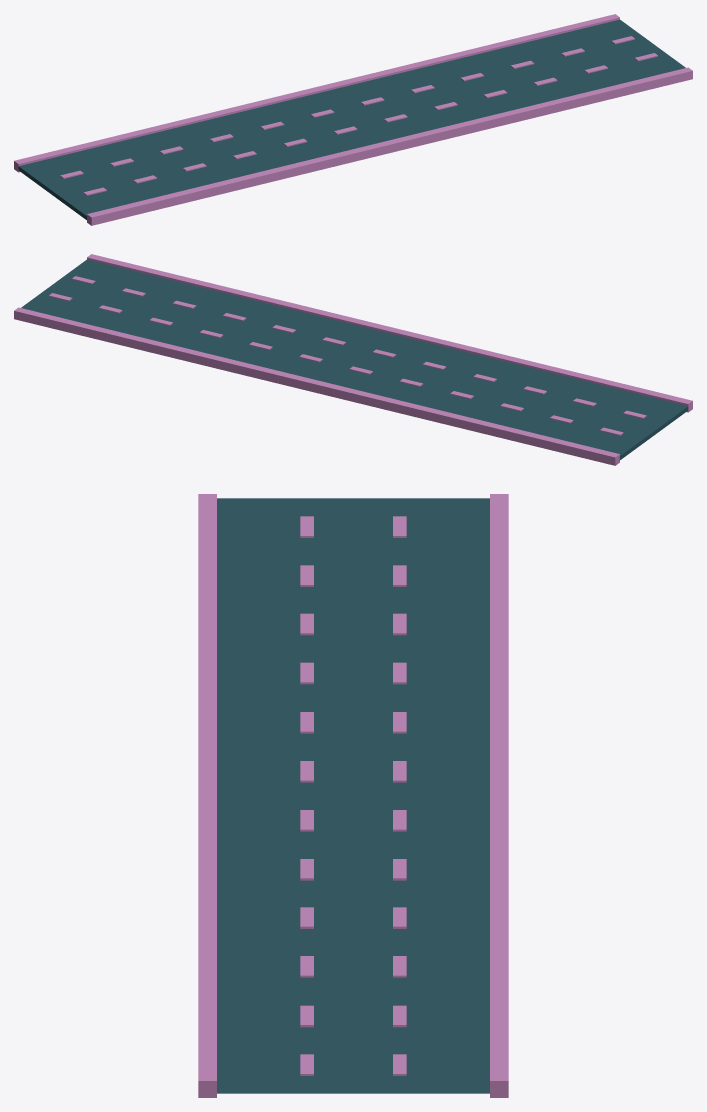
Rendered from weg1.obj.
3 views of the same model, one above another, from view 1: azimuth 30°, elevation 25°; view 2: azimuth 150°, elevation 25°; view 3: azimuth 270°, elevation 25° (orthographic). The views are drawn at different scales.
Visible parts, largest first — view 1: Cube.001; view 2: Cube.001; view 3: Cube.001.
Boxes of the visible parts, left/top/right/bottom form: Cube.001: left=14, top=14, right=692, bottom=225; Cube.001: left=14, top=254, right=692, bottom=465; Cube.001: left=198, top=494, right=508, bottom=1097.
Bounding box in the file's own units: 60 × 0.8 × 13.4.
32 materials, 32 textured.
